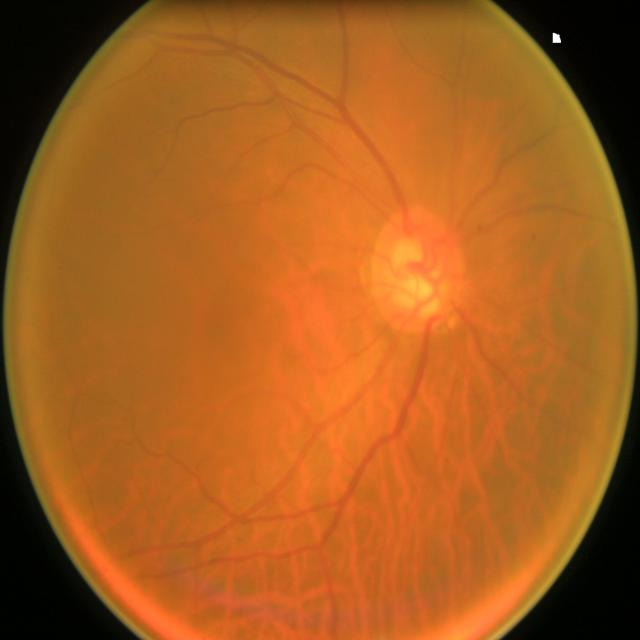OC: (383, 233, 447, 318)
OD: (371, 210, 467, 334)
